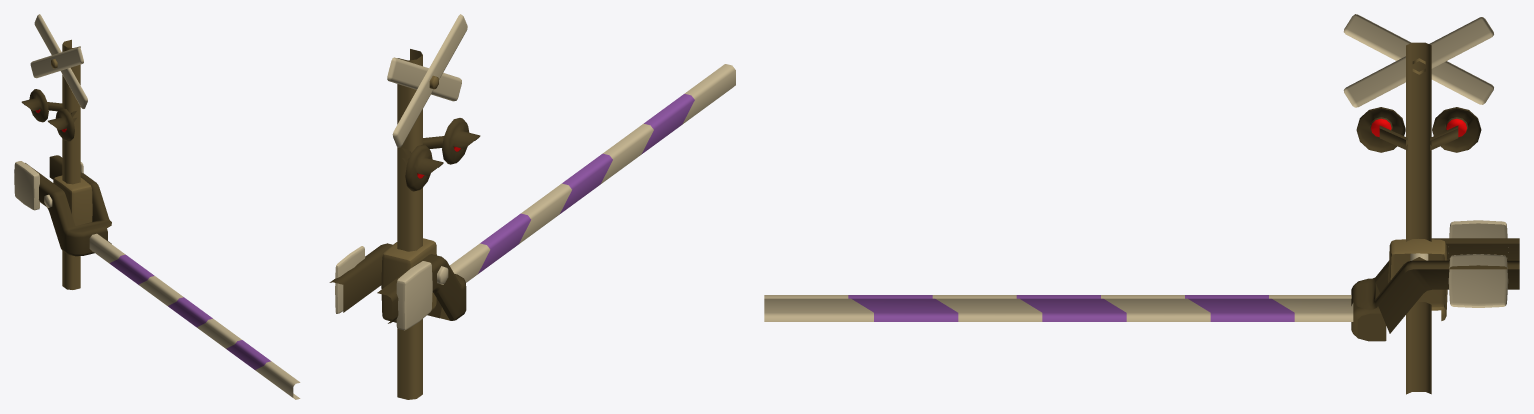
File: ChocolateBoomGate_MDL.fbx
3 views of the same model, side by side, from view 1: azimuth 30°, elevation 25°; view 2: azimuth 150°, elevation 25°; view 3: azimuth 270°, elevation 25° (orthographic). The views are drawn at different scales.
Visible parts, largest first — view 1: railway_boom_gate_GEO, railway_sign_GEO; view 2: railway_boom_gate_GEO, railway_sign_GEO; view 3: railway_boom_gate_GEO, railway_sign_GEO.
Part boxes in pixels (<box>): railway_boom_gate_GEO: <box>14,155,300,399</box>; railway_sign_GEO: <box>21,14,92,289</box>; railway_boom_gate_GEO: <box>329,64,735,330</box>; railway_sign_GEO: <box>381,14,480,399</box>; railway_boom_gate_GEO: <box>764,220,1519,341</box>; railway_sign_GEO: <box>1343,14,1493,394</box>.
Size of the model in its own units: 126 by 534 by 980.
